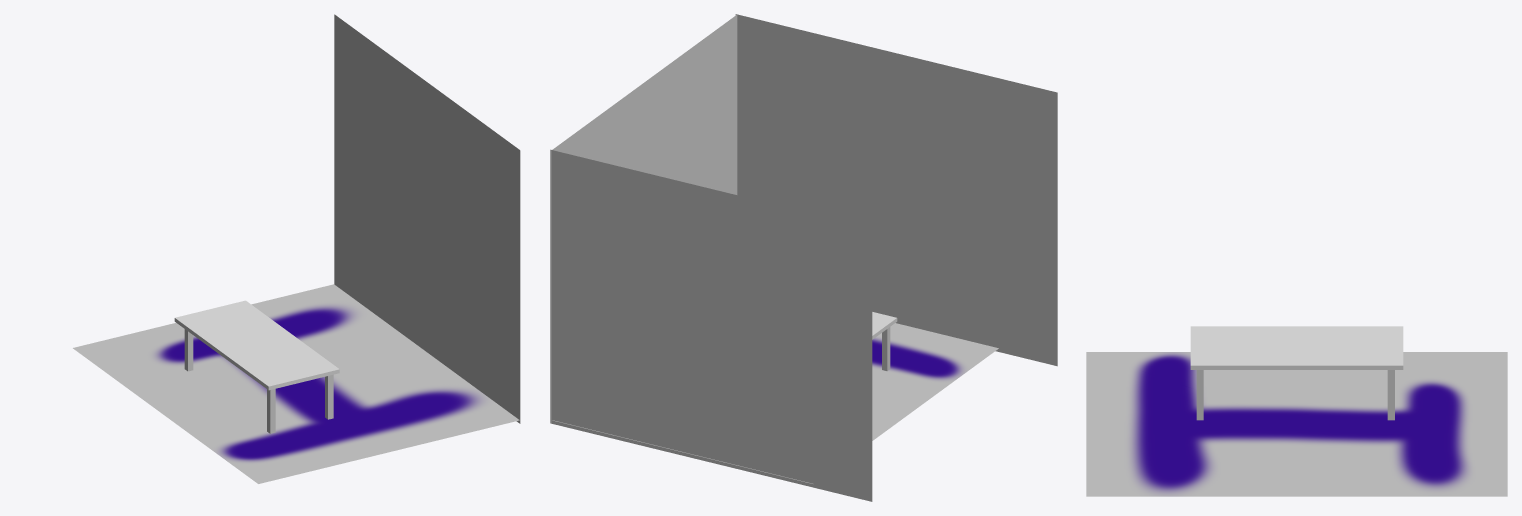
The model's file is scena.glb.
The picture shows the model from 3 angles, left to right: view 1: azimuth 30°, elevation 25°; view 2: azimuth 150°, elevation 25°; view 3: azimuth 270°, elevation 25°; orthographic projection. The views are drawn at different scales.
Parts seen in each view (by area): view 1: Plane.001, Plane, Cube; view 2: Plane.003, Plane.002, Plane.001, Plane; view 3: Plane, Cube.
Part boxes in pixels (x1=…): Plane.001: x1=334, y1=14, x2=520, y2=423; Plane: x1=73, y1=284, x2=519, y2=483; Cube: x1=174, y1=300, x2=339, y2=390; Plane.003: x1=550, y1=149, x2=872, y2=501; Plane.002: x1=735, y1=14, x2=1057, y2=366; Plane.001: x1=551, y1=15, x2=737, y2=423; Plane: x1=552, y1=323, x2=998, y2=483; Plane: x1=1086, y1=352, x2=1507, y2=496; Cube: x1=1190, y1=326, x2=1403, y2=369.
Bounding box in the file's own units: 9.07 × 7.37 × 9.07.
2 materials, 1 textured.
